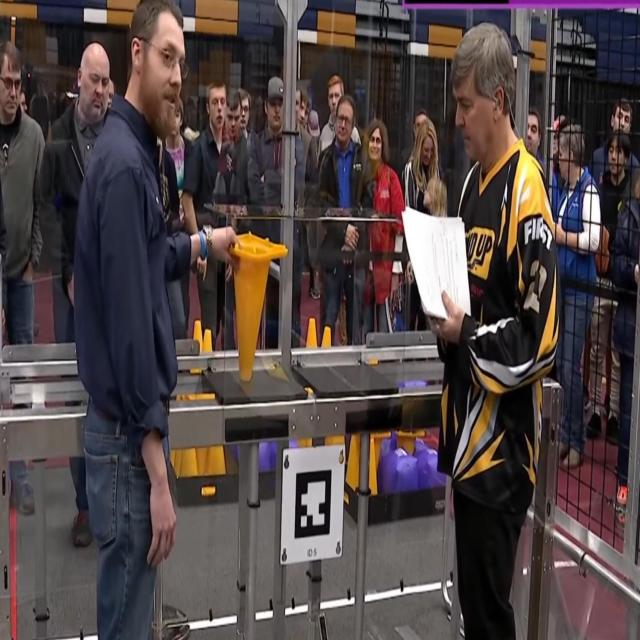frc_cone: (226, 232, 286, 388), (393, 425, 422, 457), (345, 434, 361, 491), (367, 436, 380, 496), (204, 447, 227, 479), (302, 314, 320, 350), (182, 443, 198, 476), (194, 443, 207, 476), (319, 325, 333, 350), (190, 316, 203, 342), (202, 326, 214, 352), (171, 447, 181, 472)
frc_cube: (382, 447, 418, 495), (417, 446, 445, 490), (258, 439, 274, 468)
